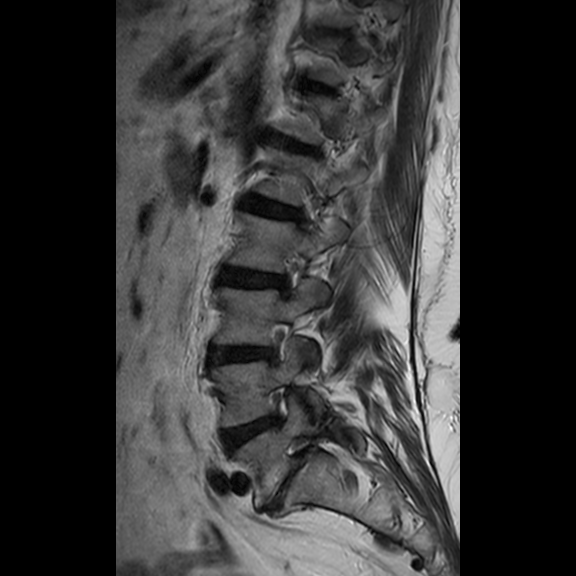LFS1: (257, 308, 299, 375), (257, 383, 301, 439)
